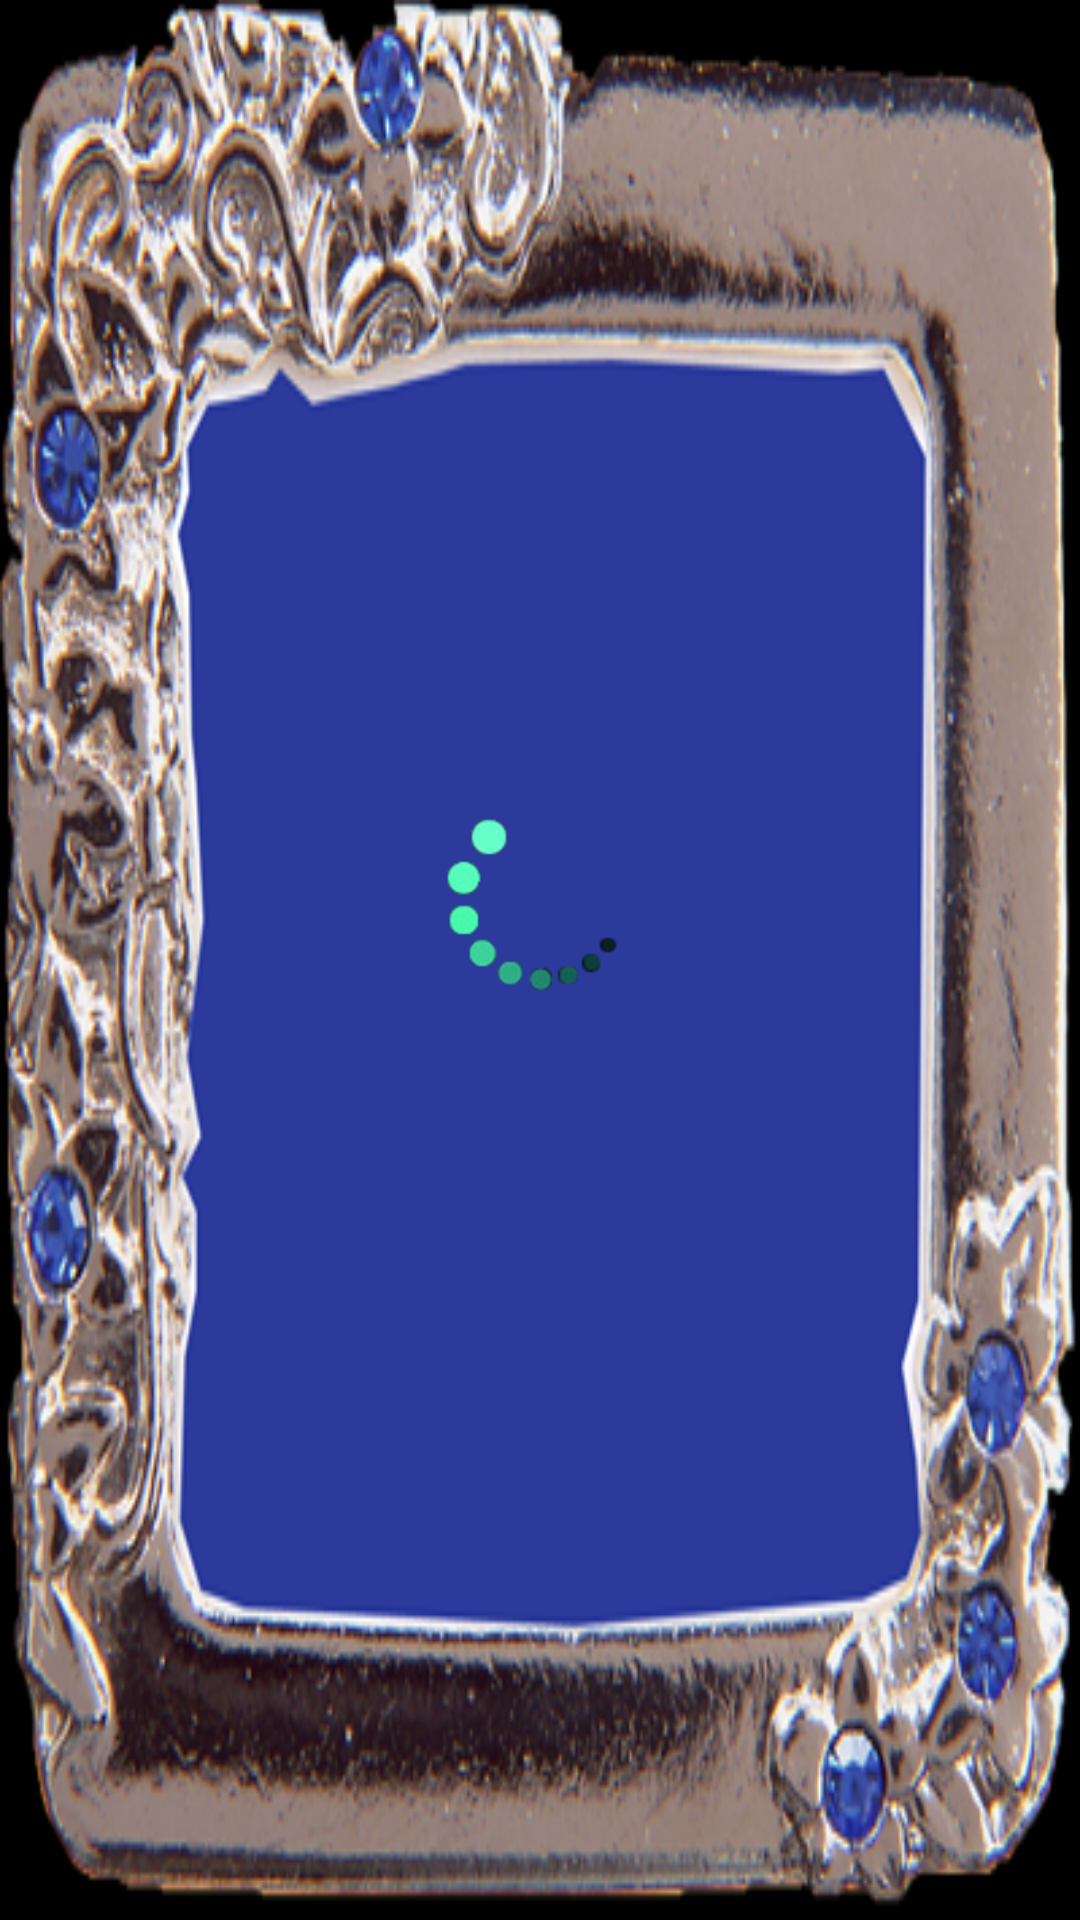

Where to tap for icons on this 1080×1920 app screen, as point (x, y):
loading process: point (532, 904)
